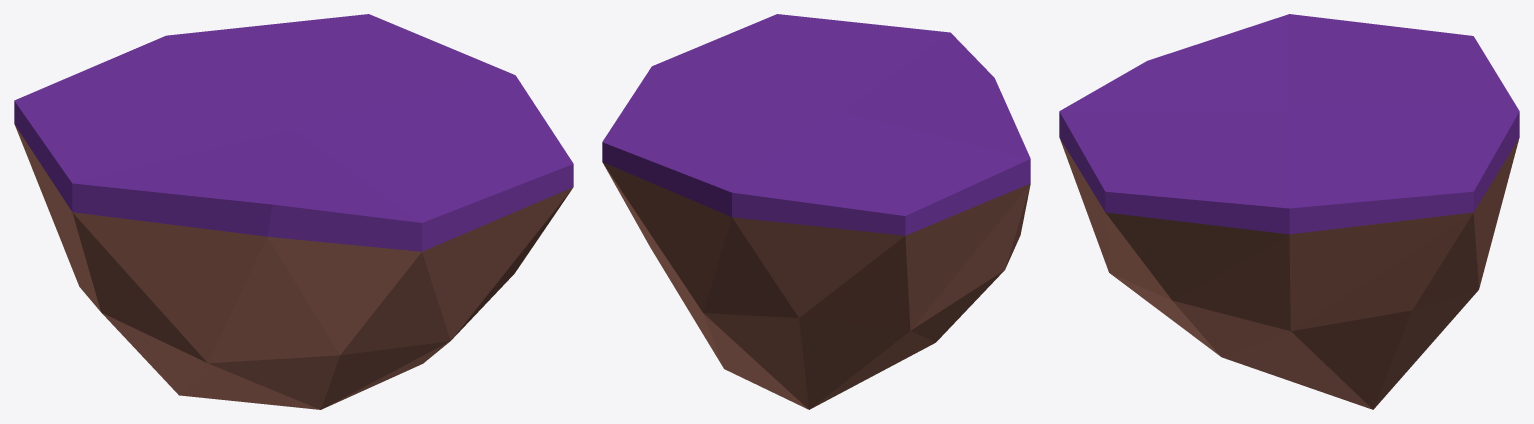
The model's file is 01_01Island_Purple.fbx.
The picture shows the model from 3 angles, left to right: view 1: azimuth 30°, elevation 25°; view 2: azimuth 150°, elevation 25°; view 3: azimuth 270°, elevation 25°; orthographic projection. The views are drawn at different scales.
Visible parts, largest first — view 1: Icosphere.022; view 2: Icosphere.022; view 3: Icosphere.022.
Boxes of the visible parts, x1=… form: Icosphere.022: x1=14, y1=14, x2=573, y2=409; Icosphere.022: x1=602, y1=14, x2=1030, y2=409; Icosphere.022: x1=1059, y1=14, x2=1519, y2=409.
Size of the model in its own units: 200 by 127 by 200.
